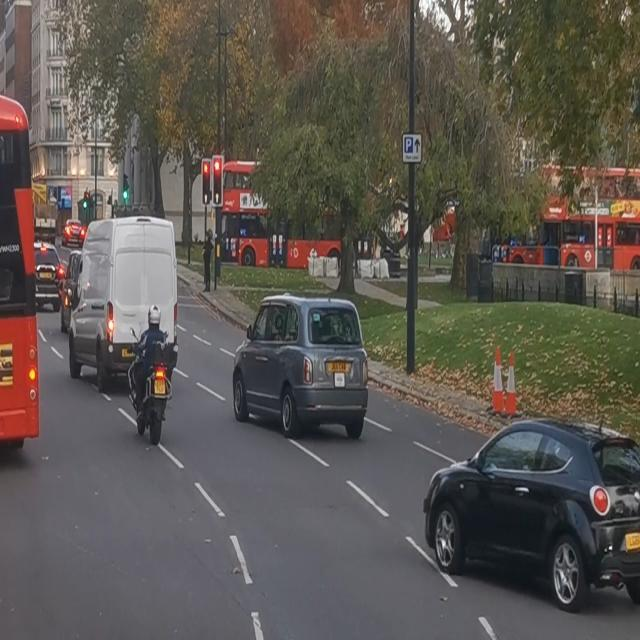Bus: (0, 92, 39, 452)
Car: (422, 416, 639, 612), (230, 291, 369, 439)
Motorcycle: (126, 327, 178, 445)
Traffic-light: (120, 173, 130, 205)
